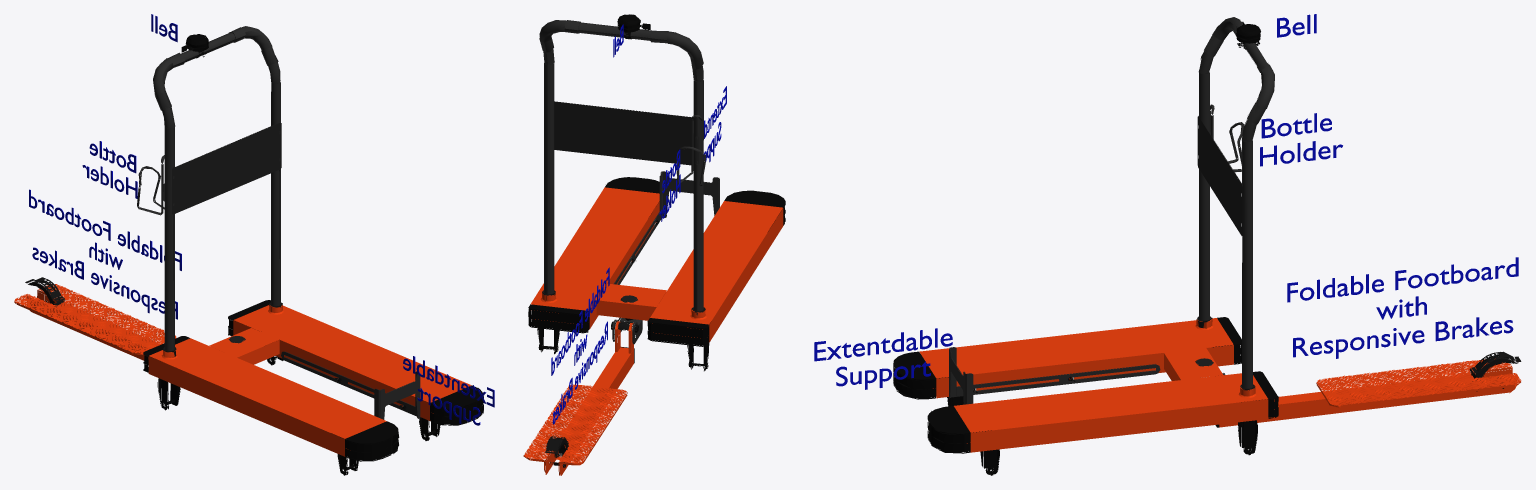
Rendered from skutroGLB.glb.
3 renders of one model, left to right at view 1: azimuth 30°, elevation 25°; view 2: azimuth 150°, elevation 25°; view 3: azimuth 270°, elevation 25°, orthographic. The views are drawn at different scales.
Visible parts, largest first — view 1: Skutro_2, Text.001, Text, Text.002; view 2: Skutro_2, Text.001, Text, Text.002; view 3: Skutro_2, Text.001, Text, Text.002.
Part boxes in pixels (box(x1,y1,x2,y2)): Skutro_2: box(14, 26, 483, 475); Text.001: box(29, 189, 181, 319); Text: box(403, 356, 494, 425); Text.002: box(82, 141, 137, 198); Skutro_2: box(523, 14, 785, 475); Text.001: box(551, 267, 609, 424); Text: box(703, 86, 726, 162); Text.002: box(659, 149, 680, 221); Skutro_2: box(893, 17, 1521, 475); Text.001: box(1287, 257, 1518, 358); Text: box(814, 328, 952, 389); Text.002: box(1260, 113, 1342, 166).
Size of the model in its own units: 1.08 by 1.62 by 2.65.
